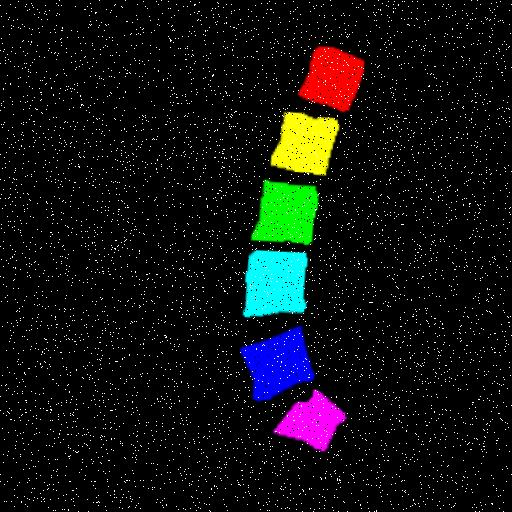L1: (298, 51, 364, 114)
L2: (269, 115, 337, 177)
L3: (251, 184, 314, 247)
L4: (242, 253, 304, 320)
L5: (238, 331, 311, 403)
S1: (272, 393, 342, 453)
